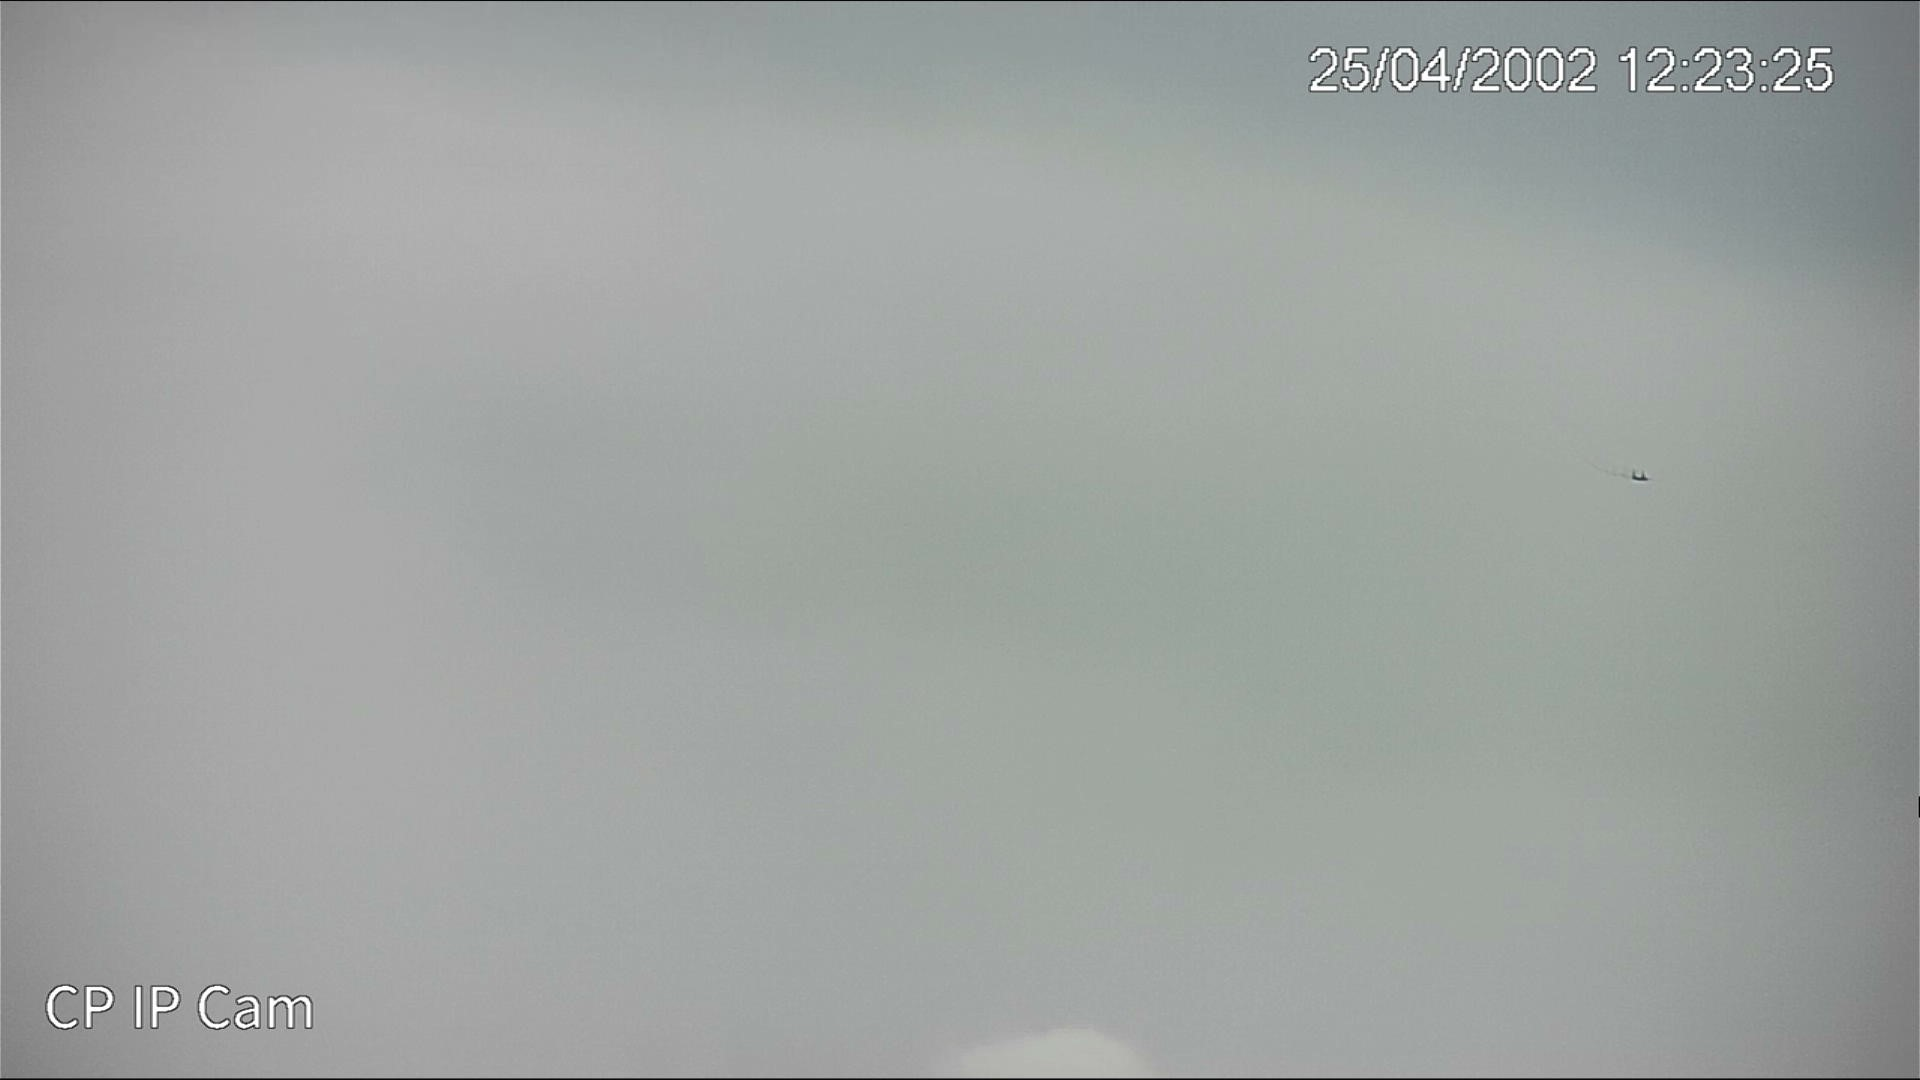SU_30: (1613, 469, 1642, 483)
